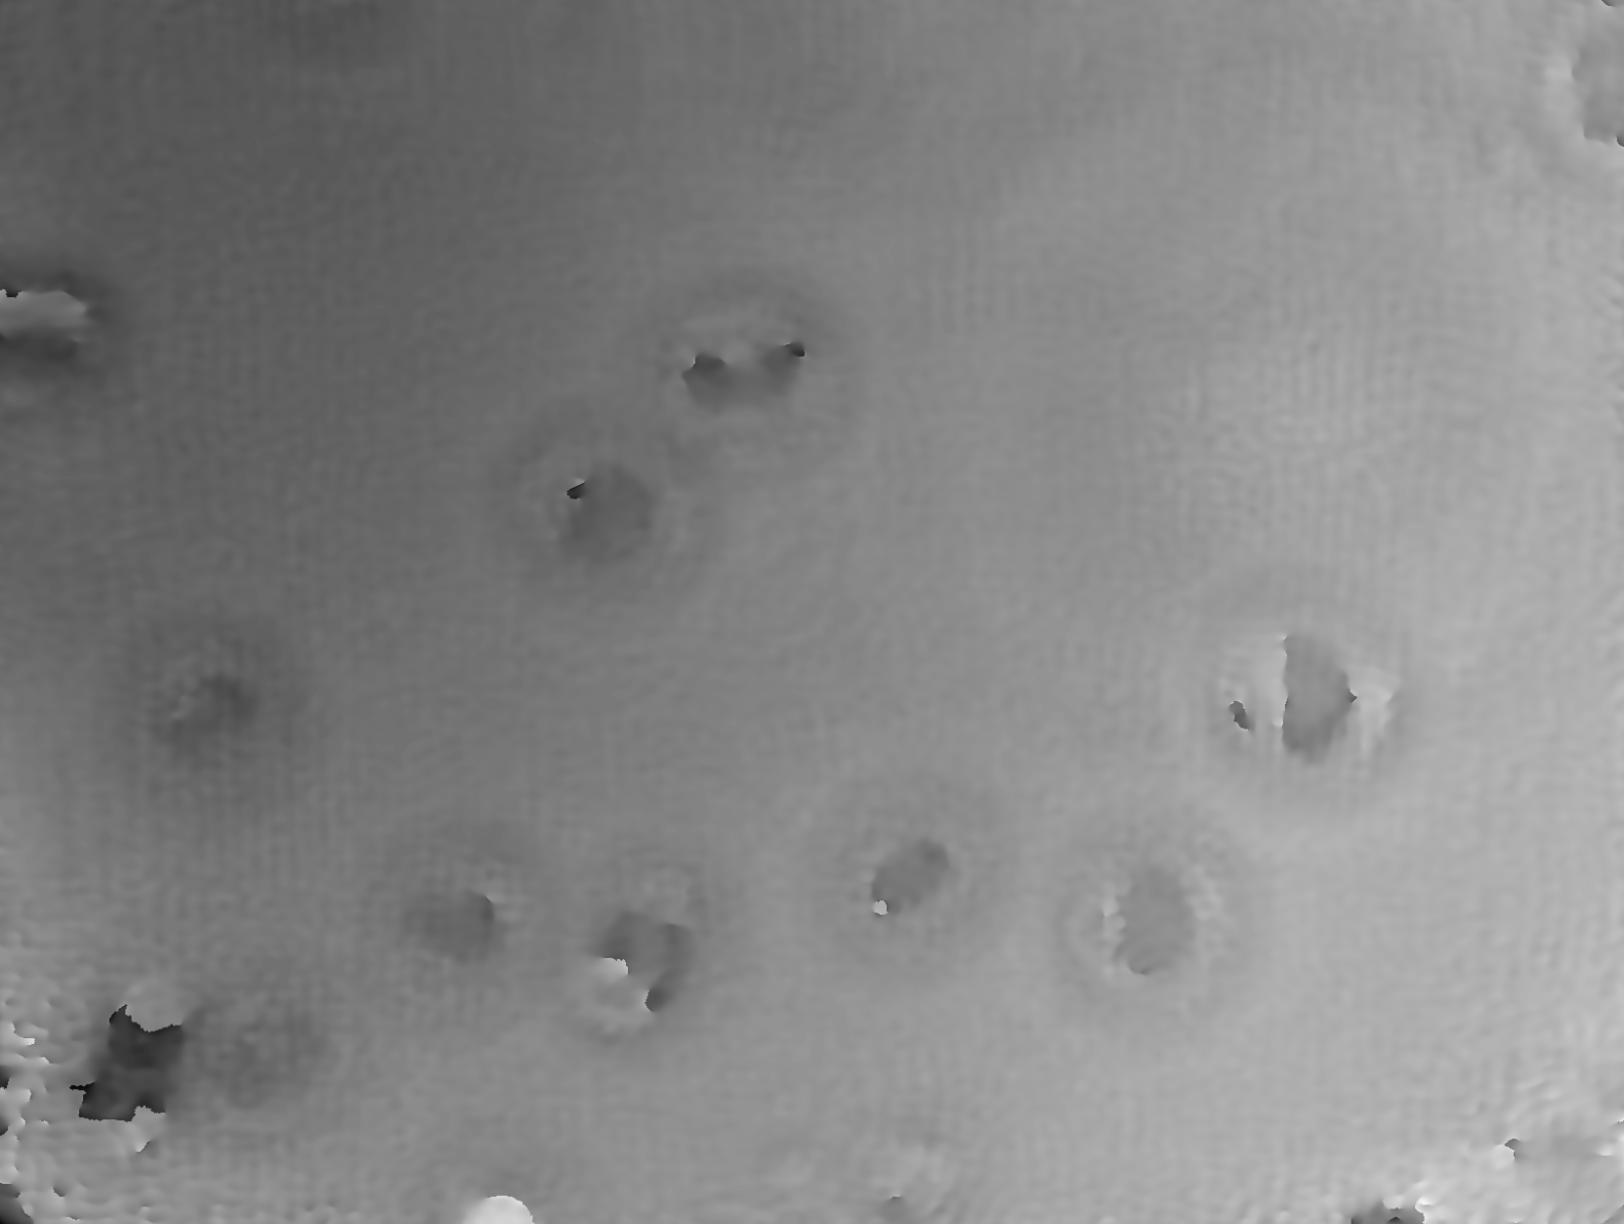cell: (87, 579, 347, 846), (489, 387, 738, 630), (634, 258, 872, 492), (339, 814, 561, 1050), (1219, 577, 1411, 810), (539, 858, 746, 1072), (1060, 809, 1256, 1034), (162, 951, 379, 1155), (819, 782, 1000, 982)
